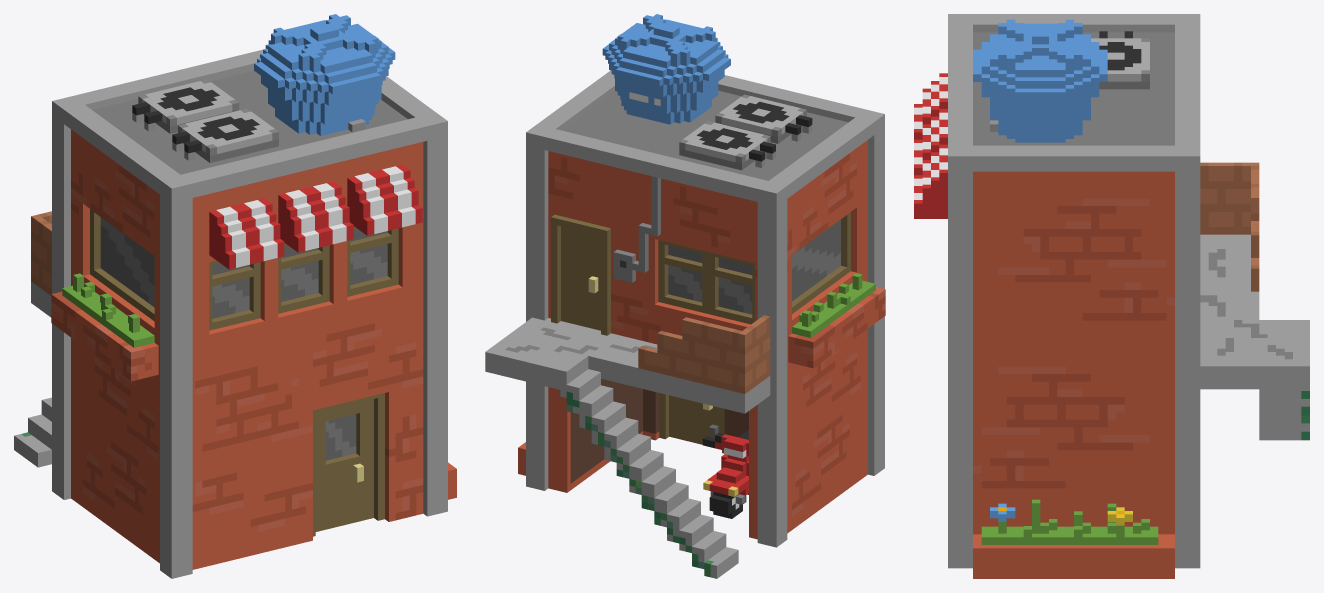
Rendered from variaçõesdecorcasa-1.obj.
The picture shows the model from 3 angles, left to right: view 1: azimuth 30°, elevation 25°; view 2: azimuth 150°, elevation 25°; view 3: azimuth 270°, elevation 25°; orthographic projection. The views are drawn at different scales.
Bounding box in the file's own units: 4.6 × 6.5 × 4.7.
1 material, 1 textured.
